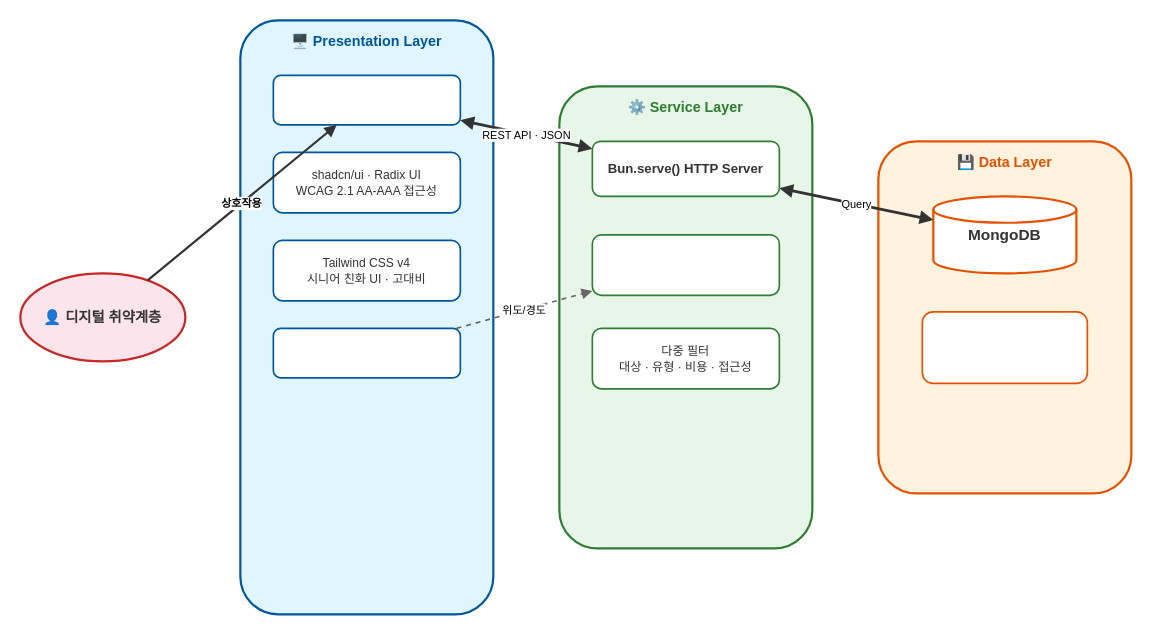
Image size: 1151x634. Some labels were removed from this diagram. Here are the shapes that lost their labels. From the top down, the centre of each, then its label:
the point at 366,99: React 19 · TypeScript
the point at 685,265: 검색 엔진 Haversine 거리계산 · 초성검색
the point at 366,352: Browser Geolocation API
the point at 1004,347: 기관명 · 위치 수혜대상 · 프로그램 비용 · 일정
